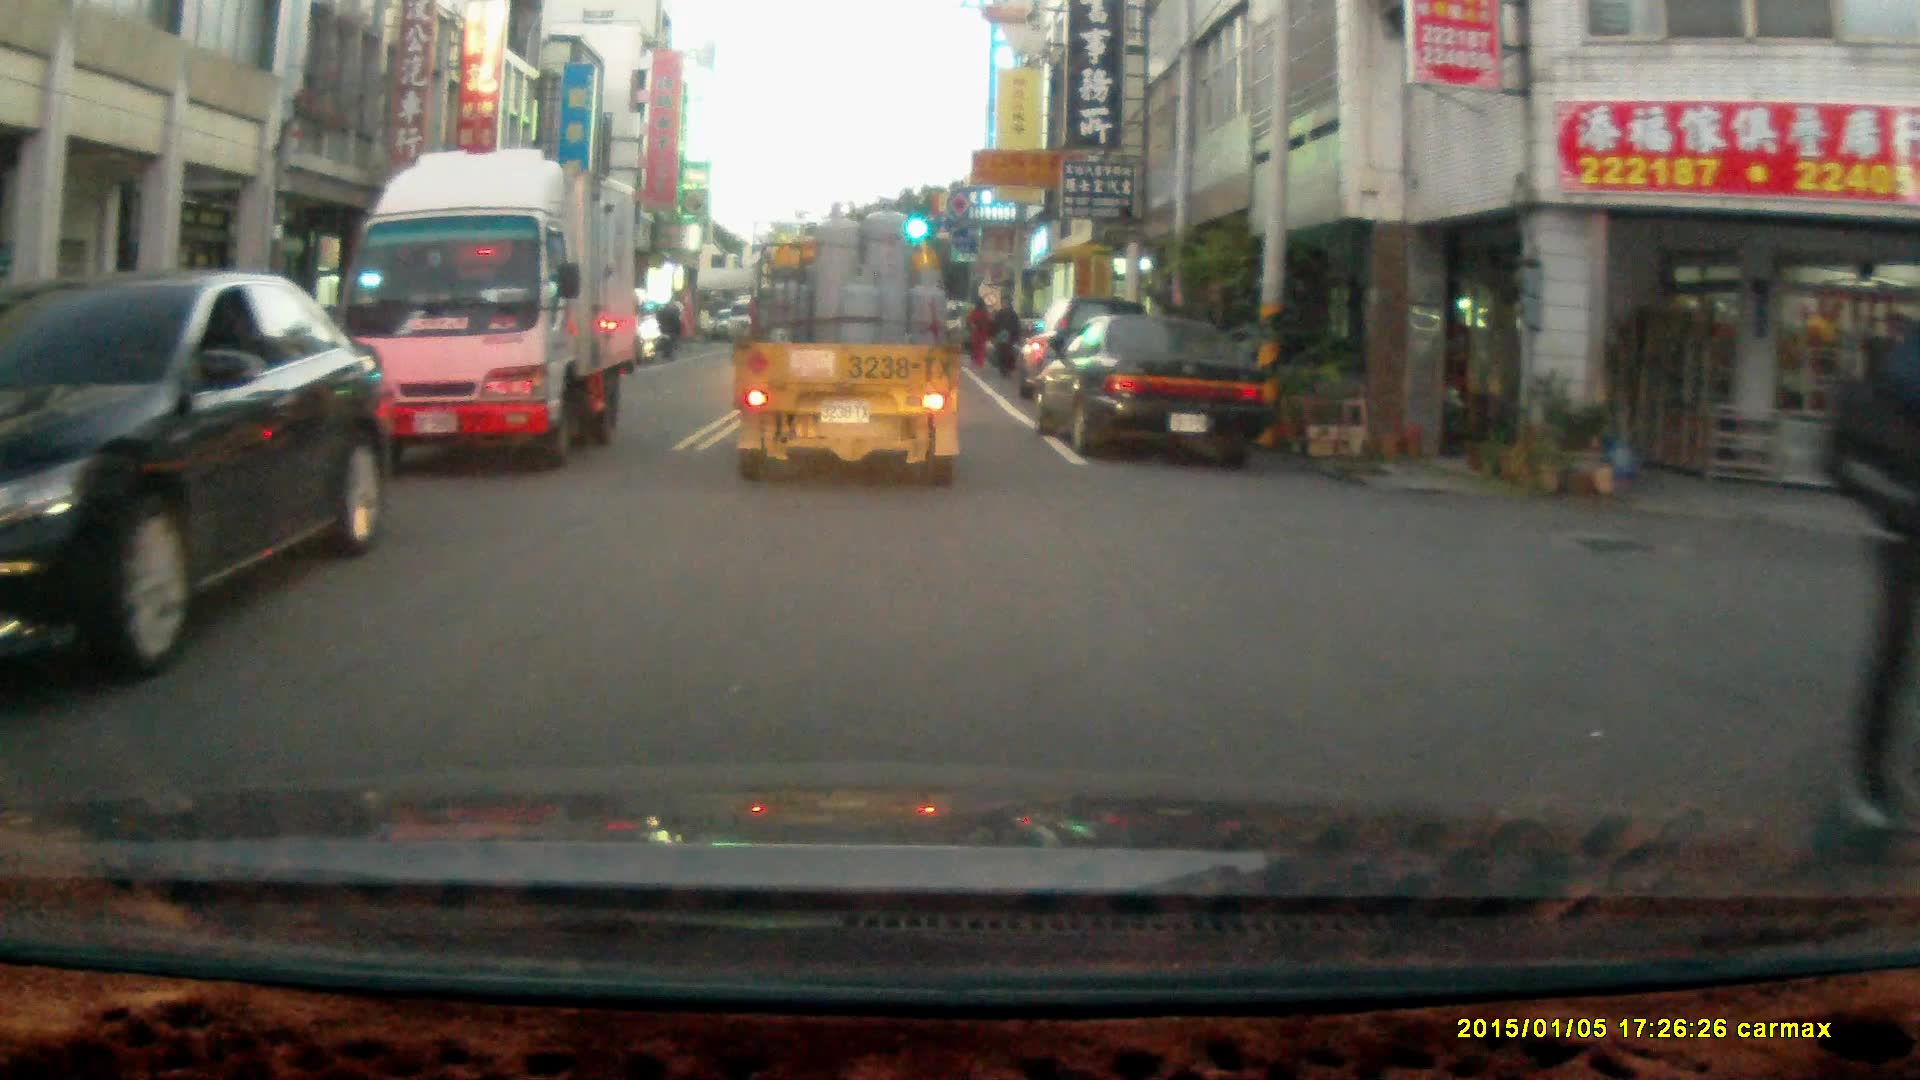pedestrian: (1838, 272, 1920, 837), (988, 295, 1019, 381), (963, 292, 993, 367), (655, 298, 685, 362)
vehicle: (1, 268, 388, 681), (337, 149, 639, 476), (730, 194, 966, 489), (1039, 310, 1270, 461)
